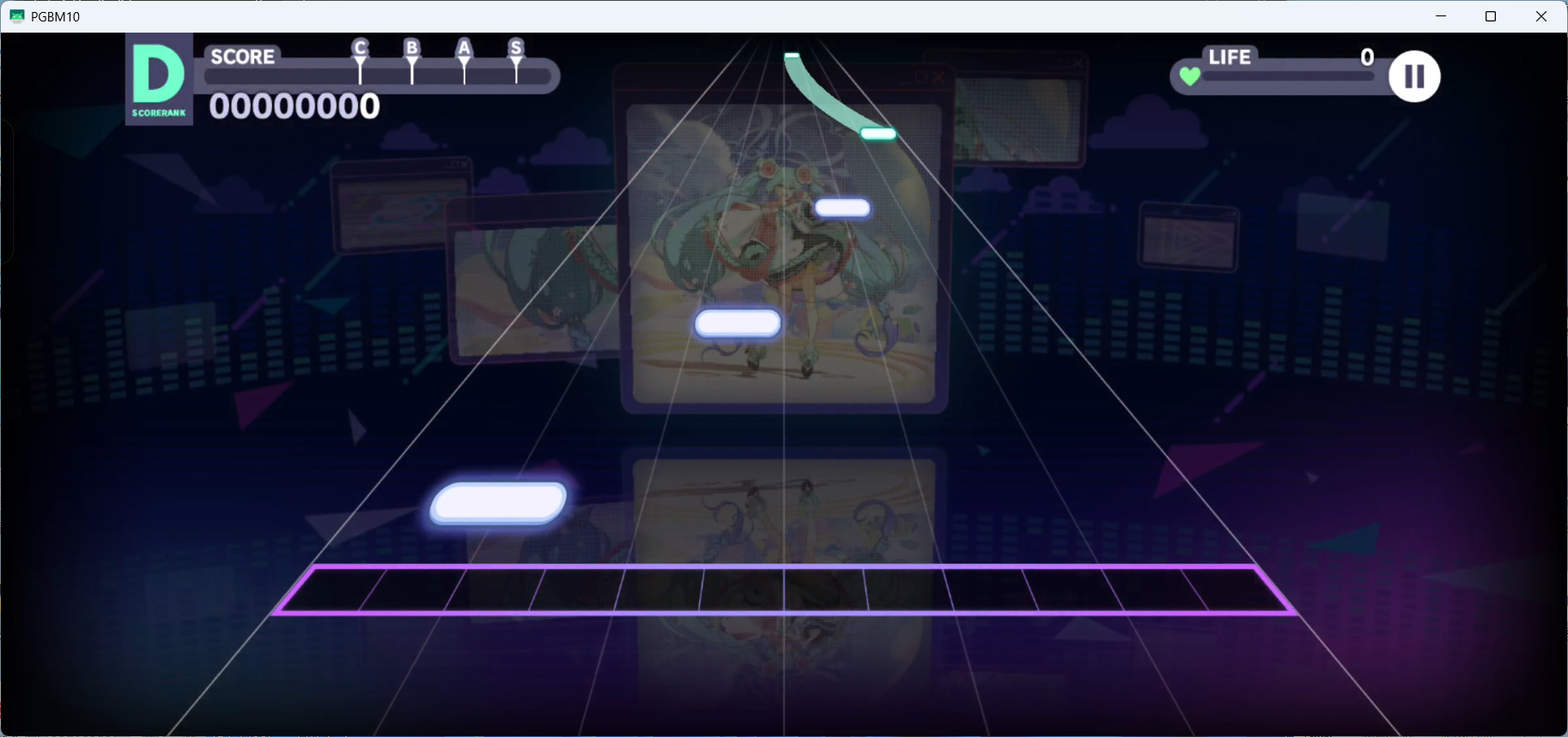hold: (783, 58, 884, 127)
tap: (429, 482, 567, 526), (695, 308, 781, 338), (815, 199, 871, 216), (860, 127, 896, 140), (784, 52, 799, 57)
